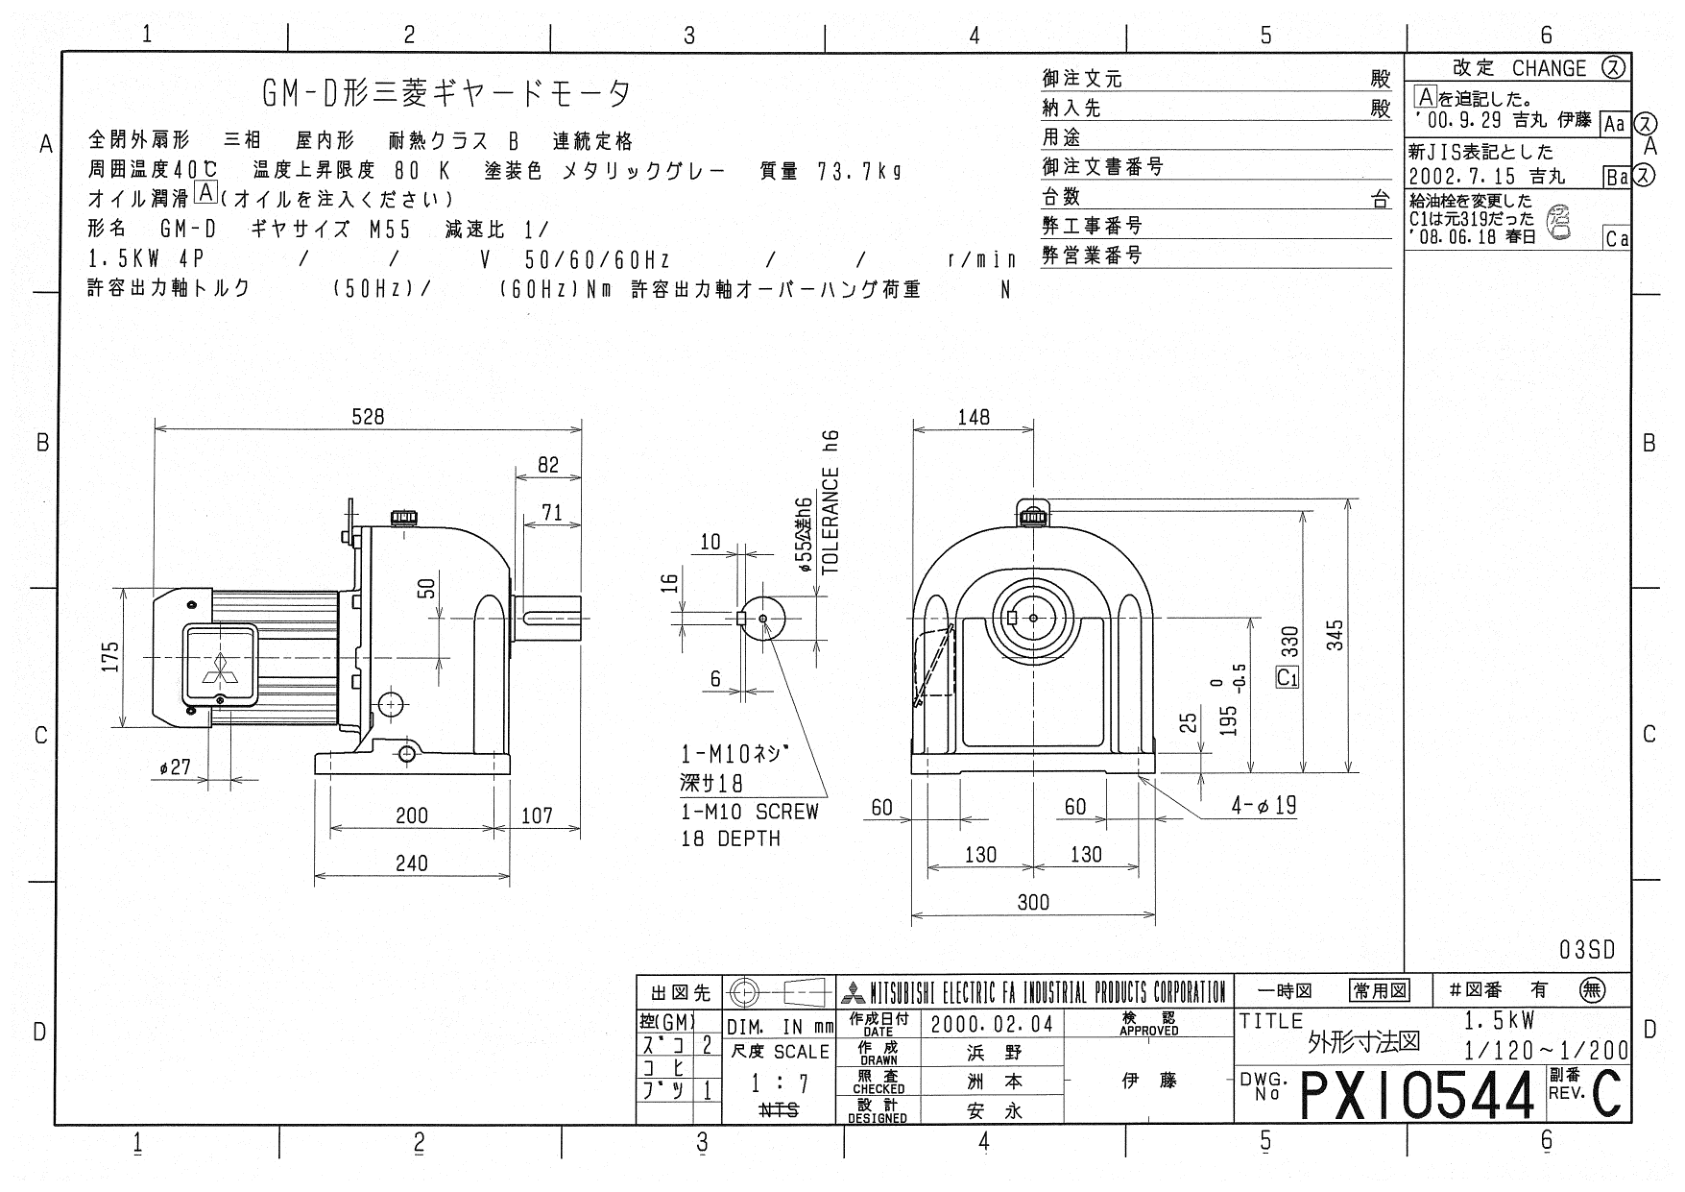GM_D_屋内＿三相_脚: (12, 6, 1685, 1192)
